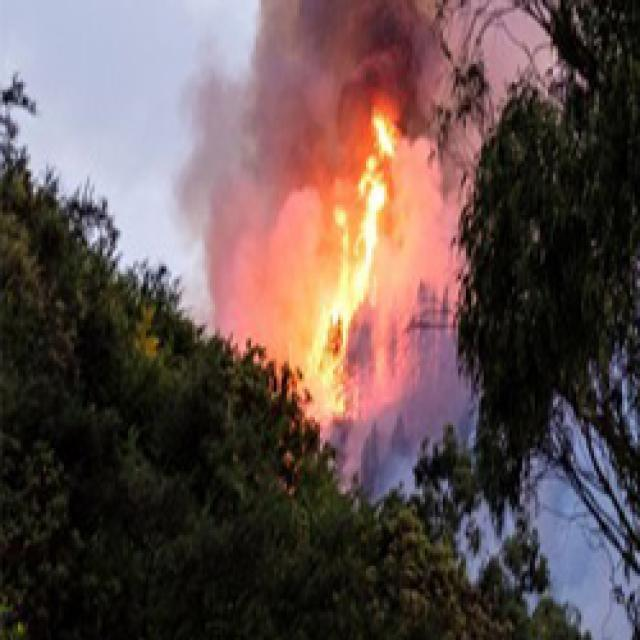Fire: (304, 109, 396, 417)
Smoke: (182, 0, 304, 374), (398, 116, 484, 509), (520, 389, 638, 640), (298, 0, 454, 114), (452, 3, 556, 85), (322, 418, 396, 492)
